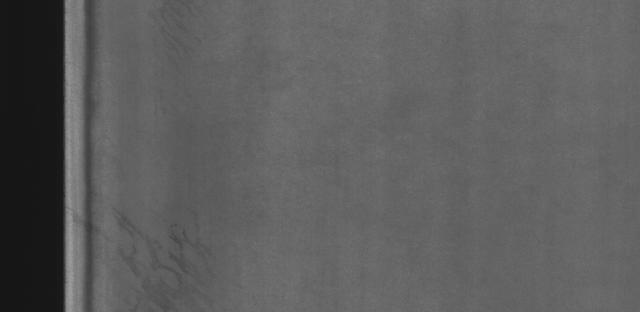water_spot: (113, 189, 219, 312)
